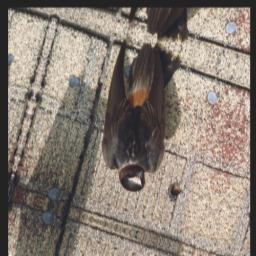Swallow: (83, 31, 190, 199)
